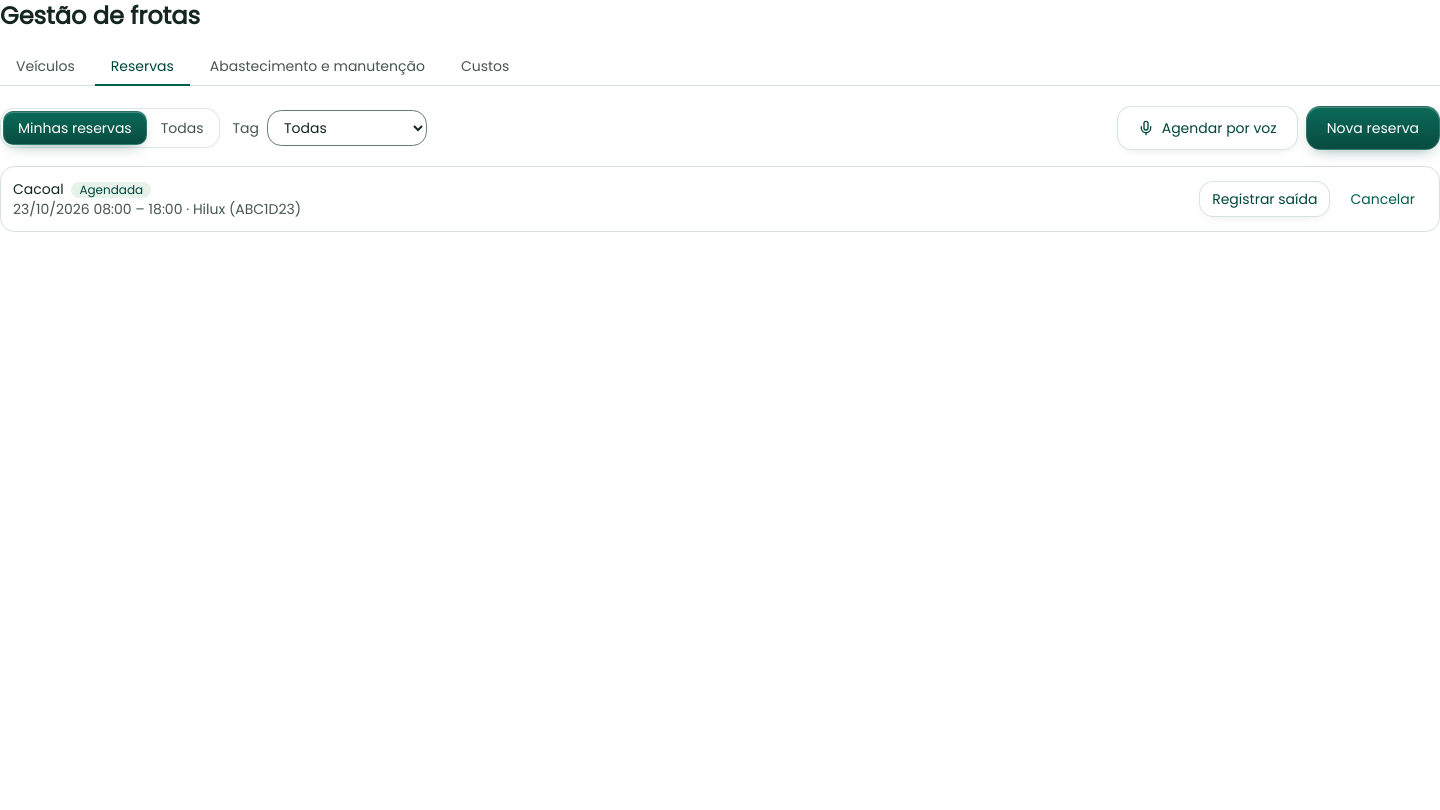
Test case: Gestão de frotas › saída e retorno registram o km e atualizam o veículo
Click the button "Registrar saída".
click(1265, 199)  # box [1199,181,1330,217]
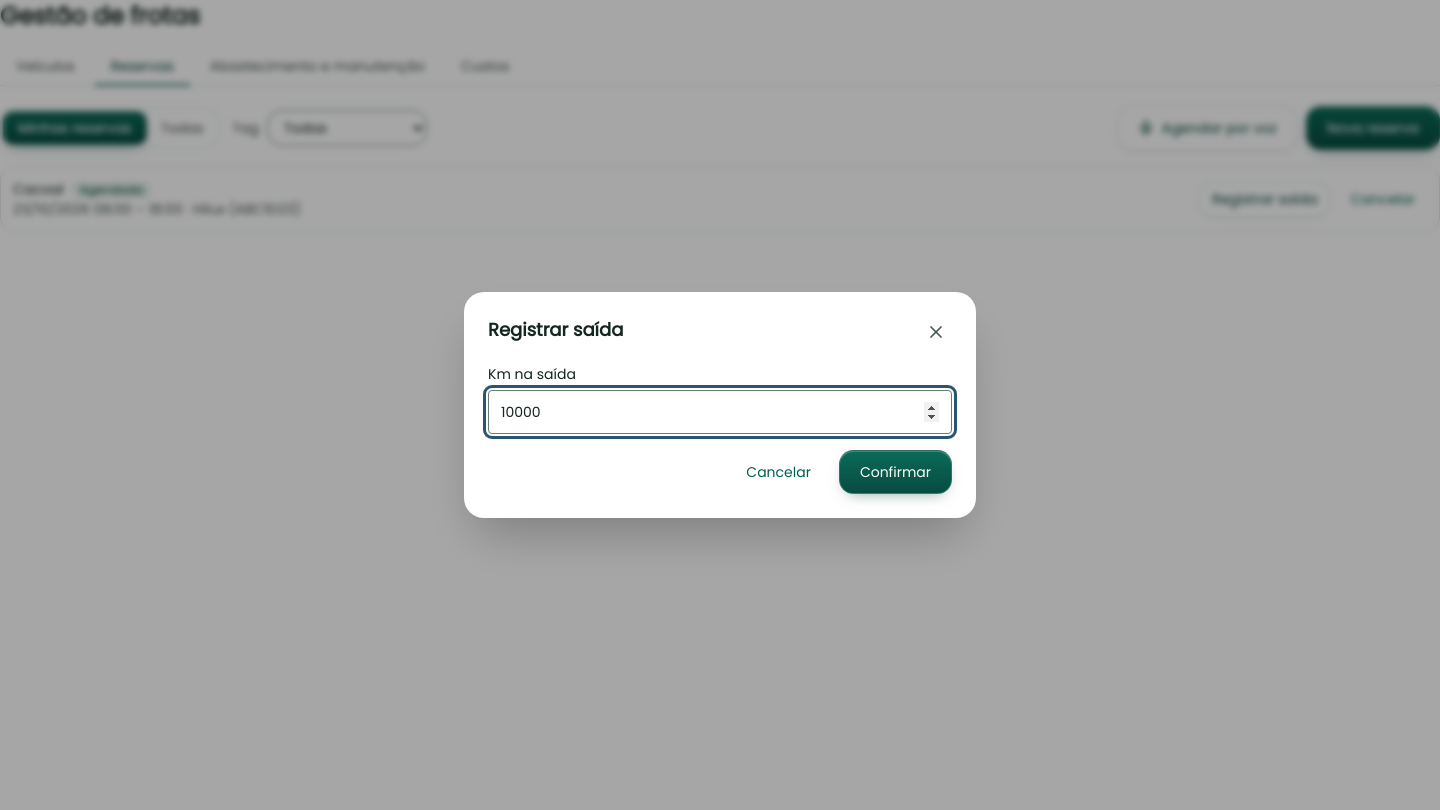
Click the button "Confirmar".
click(895, 472)  # box [839,450,952,494]
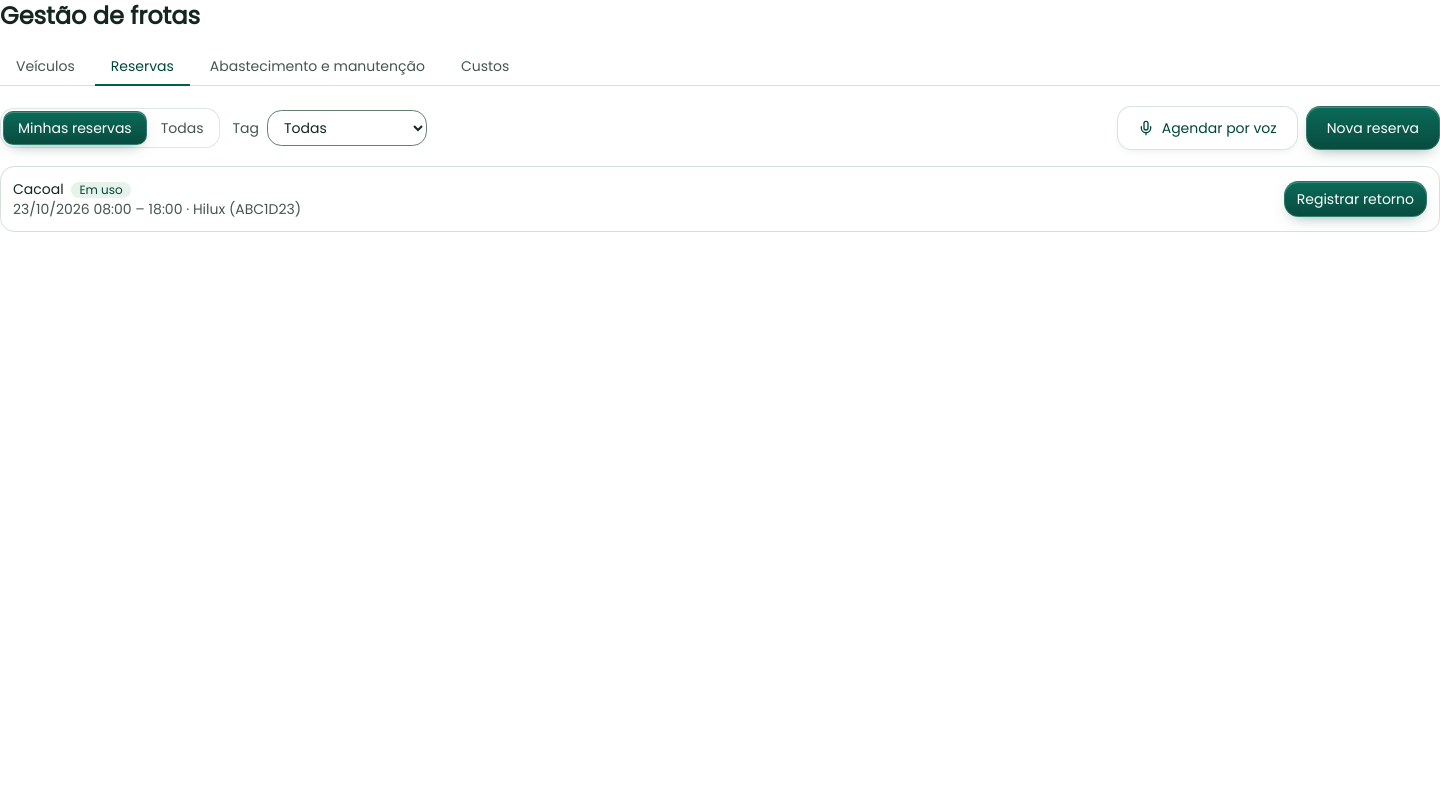
Click the button "Registrar retorno".
click(1355, 199)  # box [1284,181,1427,217]
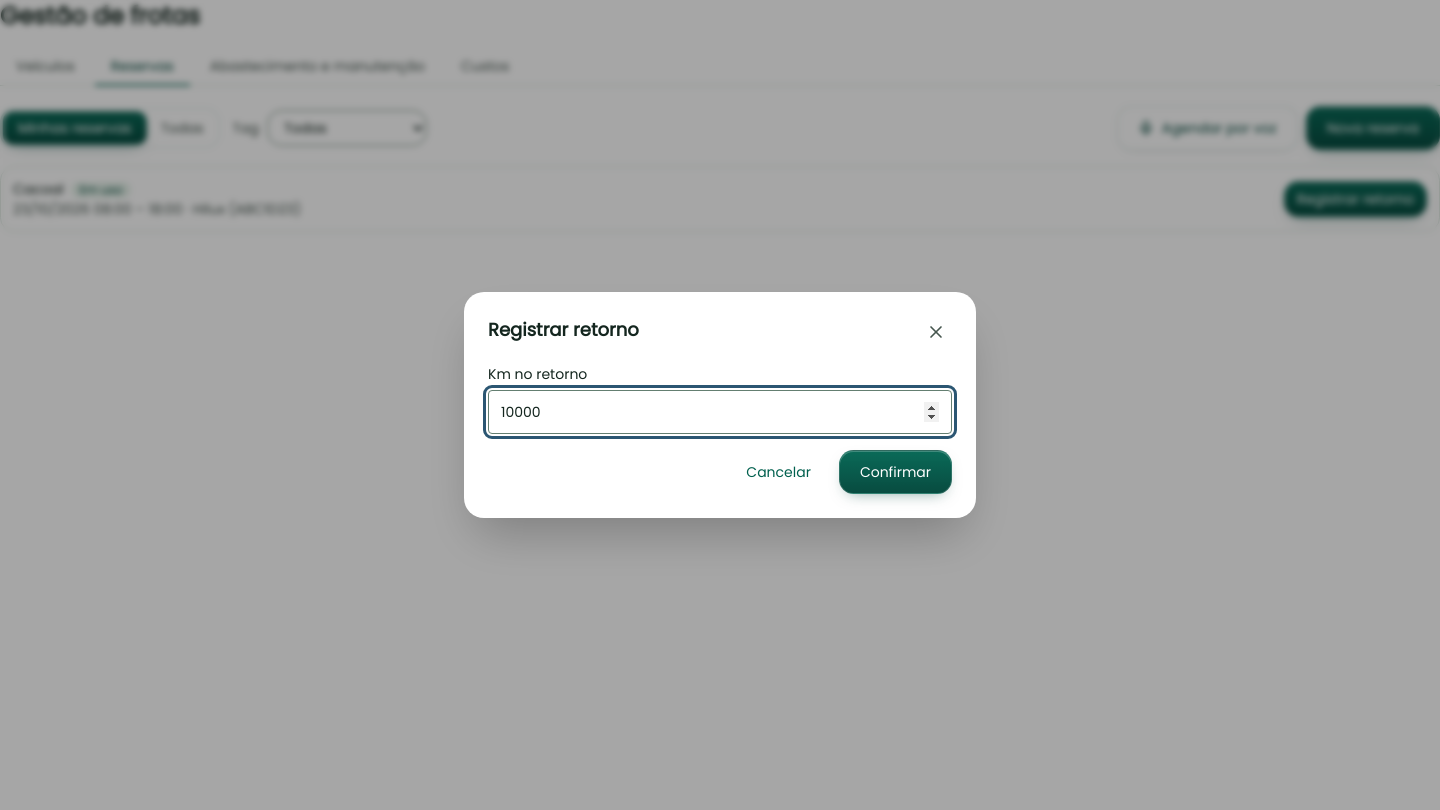
Replace the text in the number field labelled "Km no retorno" with "9999" at {"x": 720, "y": 412}, box [488,390,952,434]
Click the button "Confirmar".
click(895, 472)  # box [839,450,952,494]
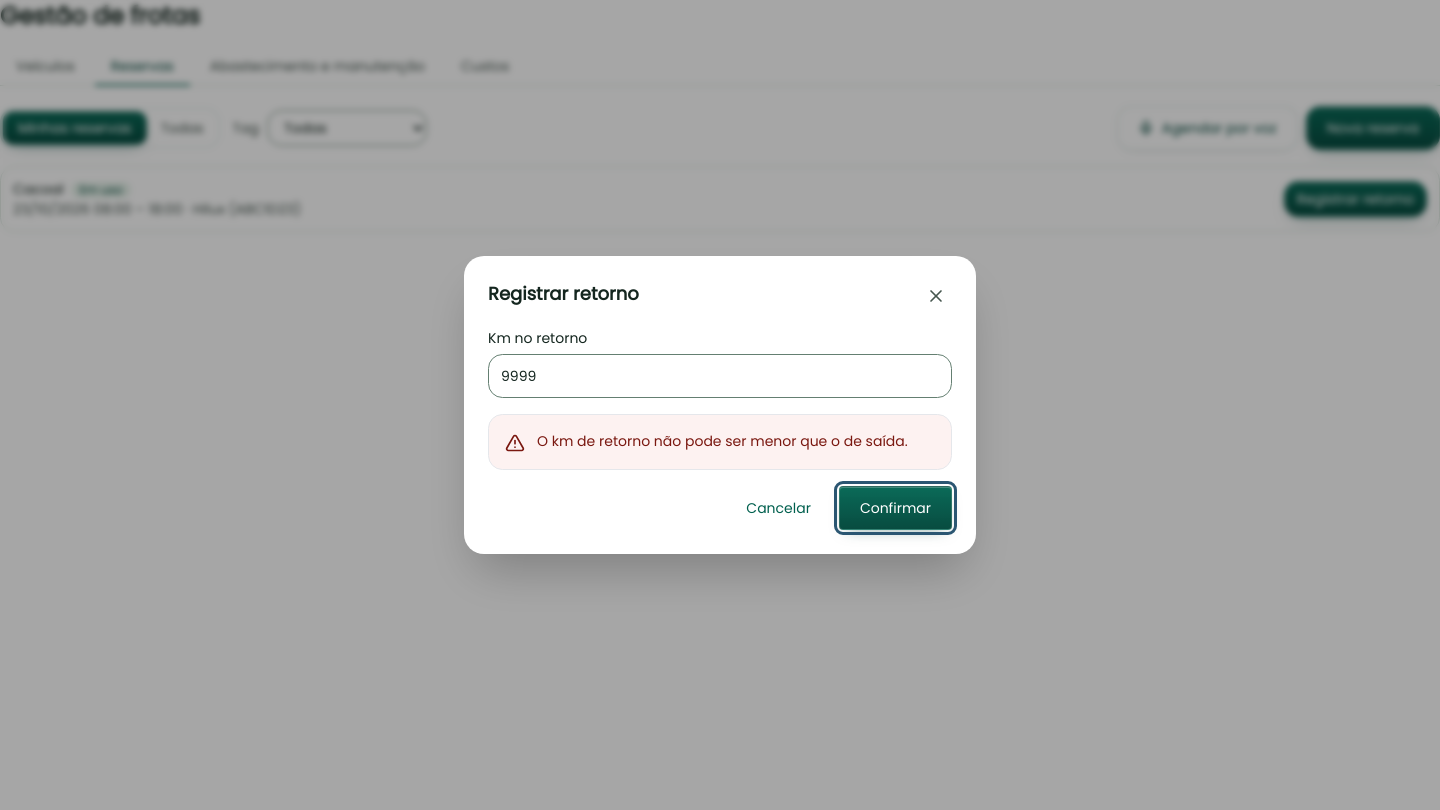
Result: the message shows "não pode ser menor" at [537,431,908,451]
Replace the text in the number field labelled "Km no retorno" with "10350" at {"x": 720, "y": 376}, box [488,354,952,398]
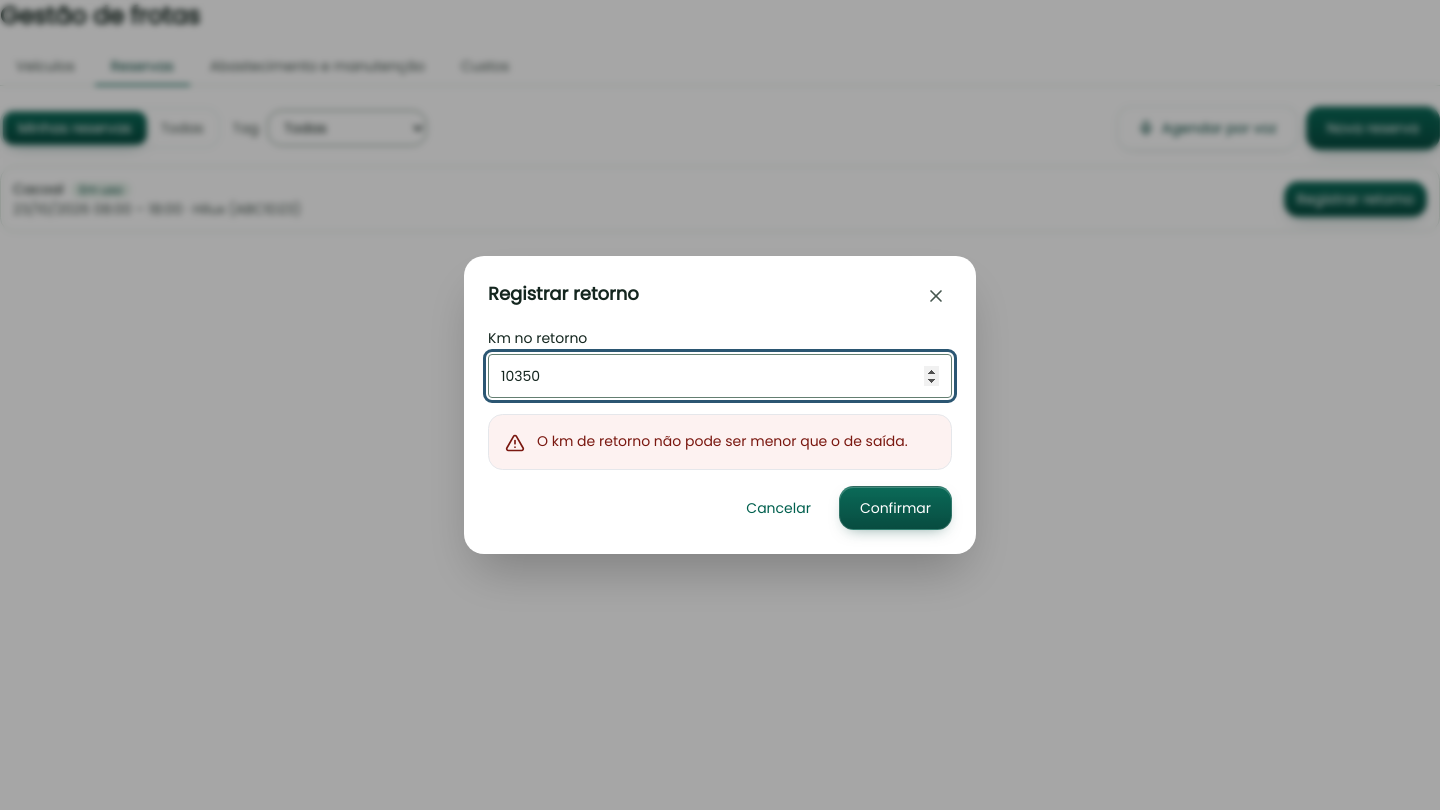
Click the button "Confirmar".
click(895, 508)  # box [839,486,952,530]
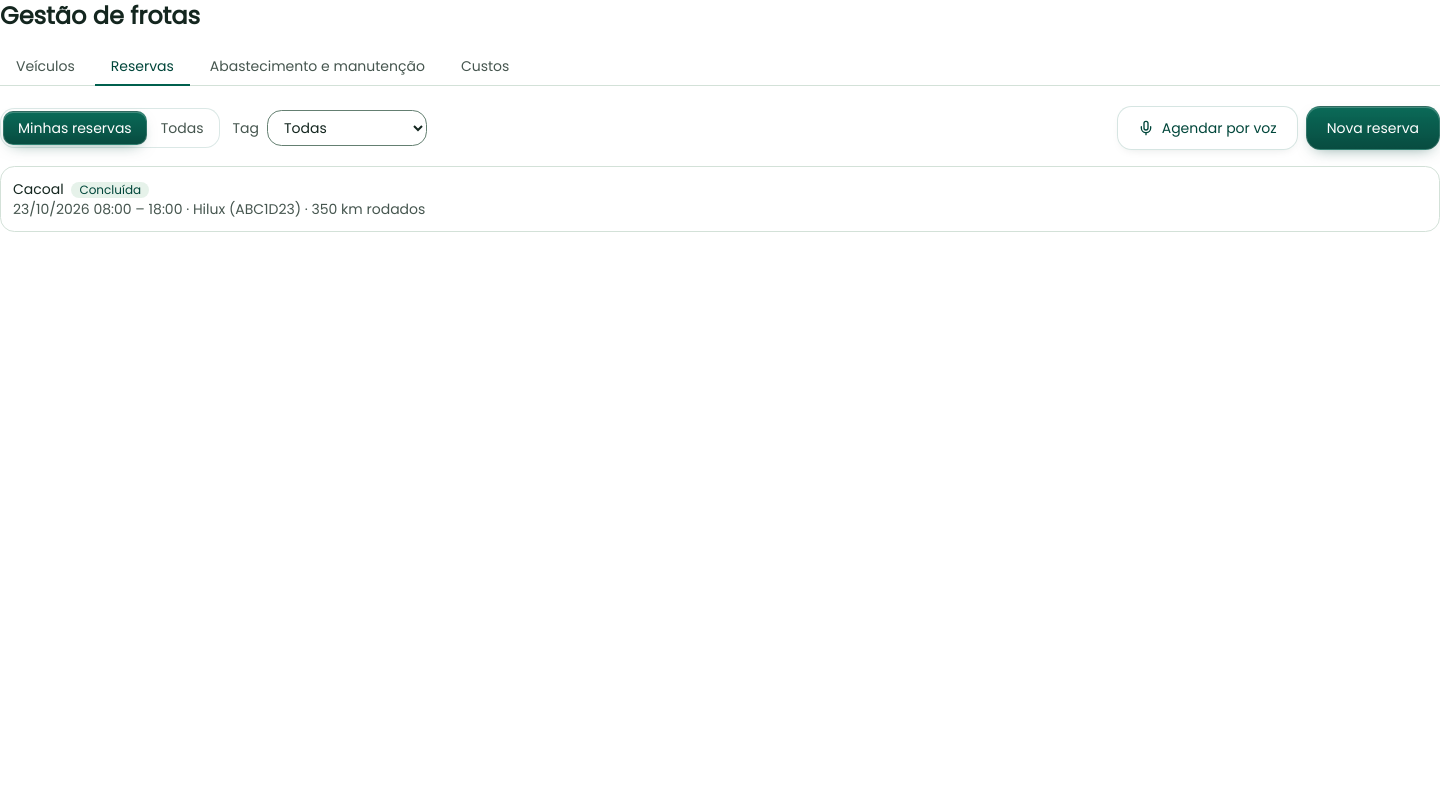
Result: the text "23/10/2026 08:00 – 18:00 · Hilux (ABC1D23) · 350 km rodados" is shown at [13,199,425,219]
